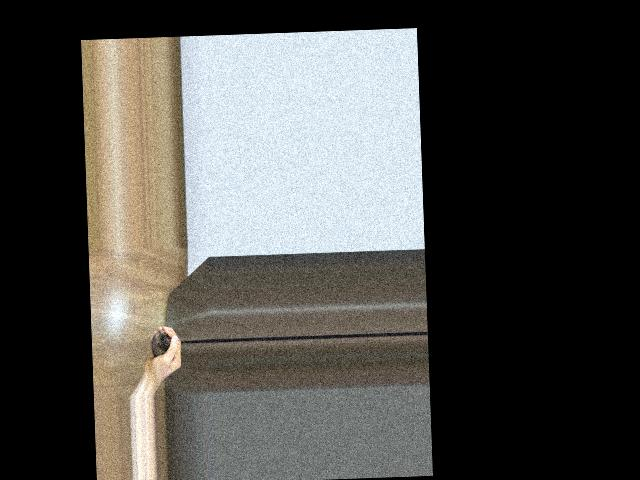beet: (150, 328, 190, 357)
